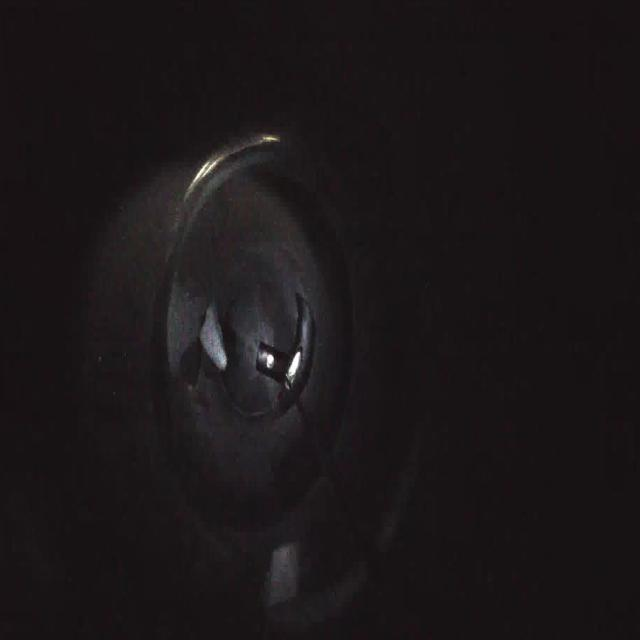impurity: (194, 294, 234, 376)
